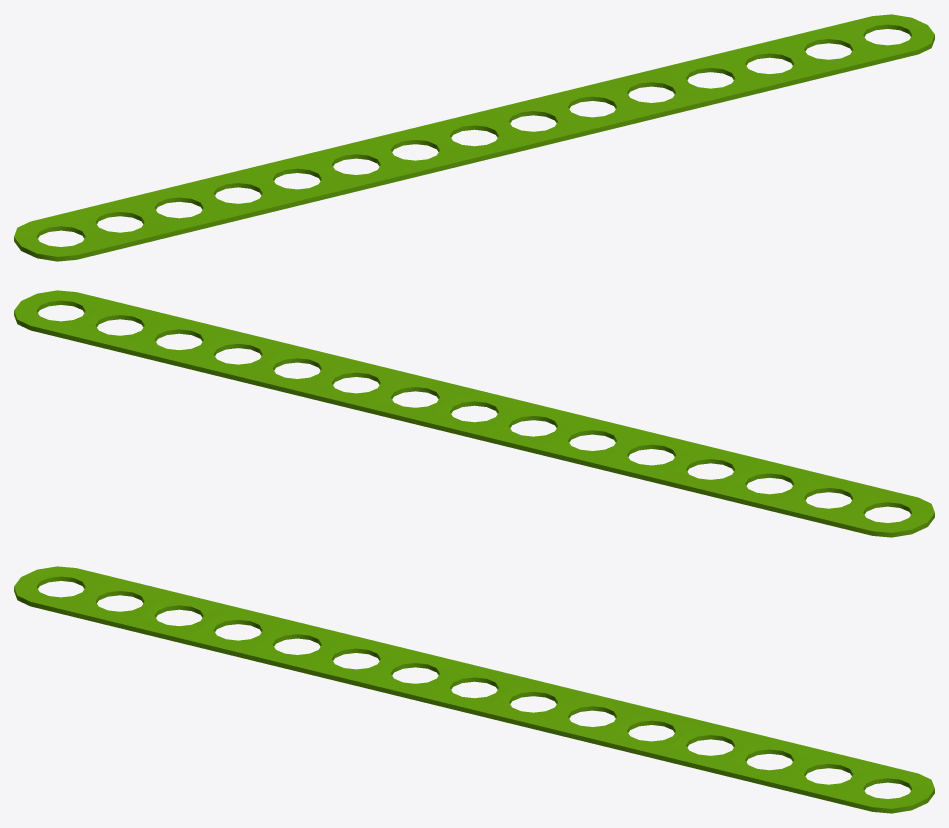
The model's file is FifteenLongGreen.fbx.
3 views of the same model, one above another, from view 1: azimuth 30°, elevation 25°; view 2: azimuth 150°, elevation 25°; view 3: azimuth 330°, elevation 25° (orthographic).
Parts seen in each view (by area): view 1: Blue15; view 2: Blue15; view 3: Blue15.
Part boxes in pixels (box(x1,y1,x2,y2)): Blue15: box(14, 14, 934, 261); Blue15: box(14, 290, 934, 537); Blue15: box(14, 566, 934, 813).
Size of the model in its own units: 39.25 by 0.1942 by 3.45.
